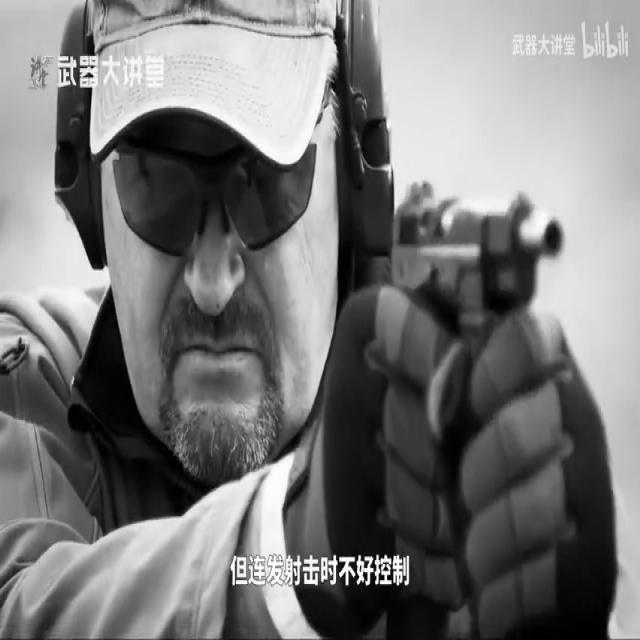Hand-Gun: (387, 160, 562, 329)
